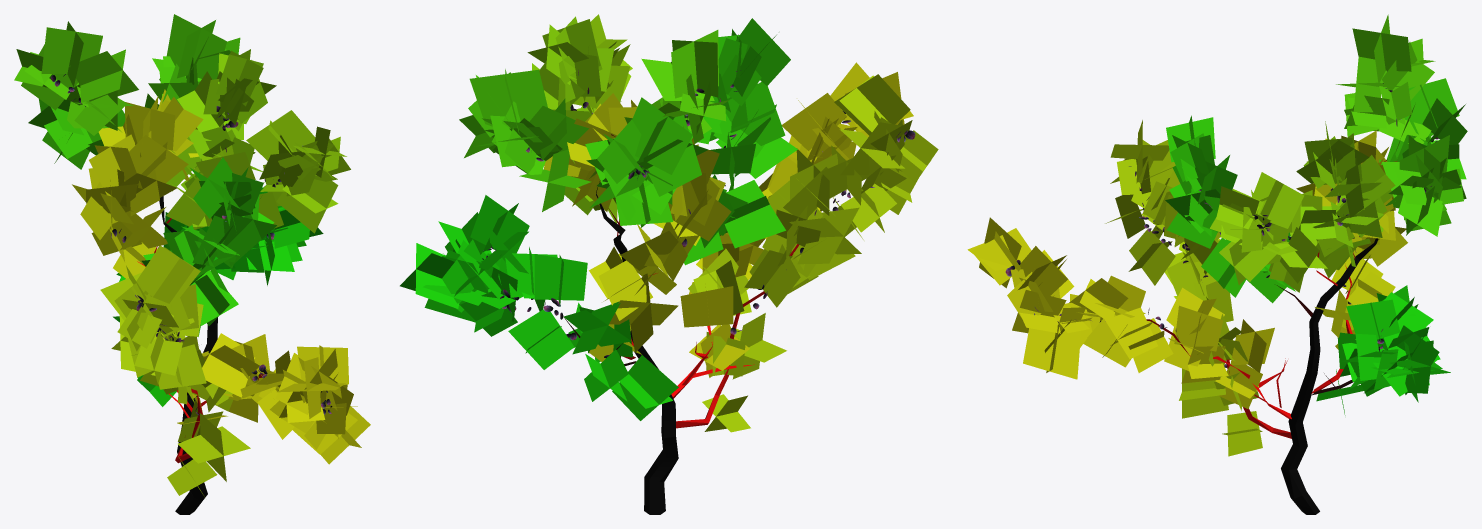
Rendered from plum1 lod1.FBX.
The picture shows the model from 3 angles, left to right: view 1: azimuth 30°, elevation 25°; view 2: azimuth 150°, elevation 25°; view 3: azimuth 270°, elevation 25°; orthographic projection. The views are drawn at different scales.
Visible parts, largest first — view 1: plum1_LOD1; view 2: plum1_LOD1; view 3: plum1_LOD1.
Part boxes in pixels (<box>): plum1_LOD1: <box>14,14,370,514</box>; plum1_LOD1: <box>400,14,938,514</box>; plum1_LOD1: <box>967,14,1467,514</box>.
Size of the model in its own units: 131618 by 183491 by 183887.
